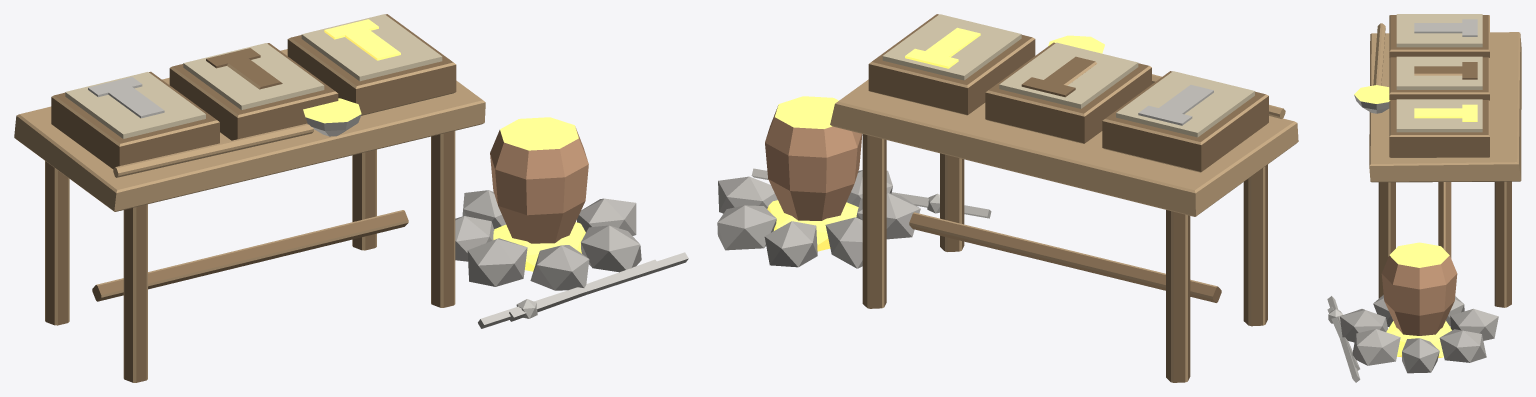
Rendered from w3d_casting_bench_working.glb.
3 renders of one model, left to right at view 1: azimuth 30°, elevation 25°; view 2: azimuth 150°, elevation 25°; view 3: azimuth 270°, elevation 25°, orthographic. The views are drawn at different scales.
Parts seen in each view (by area): view 1: w3d_casting_bench_working; view 2: w3d_casting_bench_working; view 3: w3d_casting_bench_working.
Boxes of the visible parts, x1,y1,x2,y2 form: w3d_casting_bench_working: (14,14,688,382); w3d_casting_bench_working: (717,14,1298,382); w3d_casting_bench_working: (1327,14,1521,382).
Bounding box in the file's own units: 1.9 × 0.782 × 0.7709.
